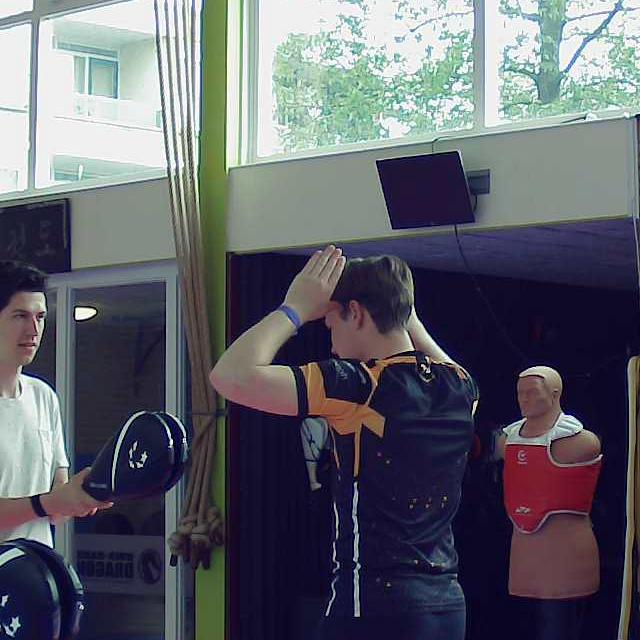paddle: (70, 409, 191, 502), (0, 535, 85, 640)
